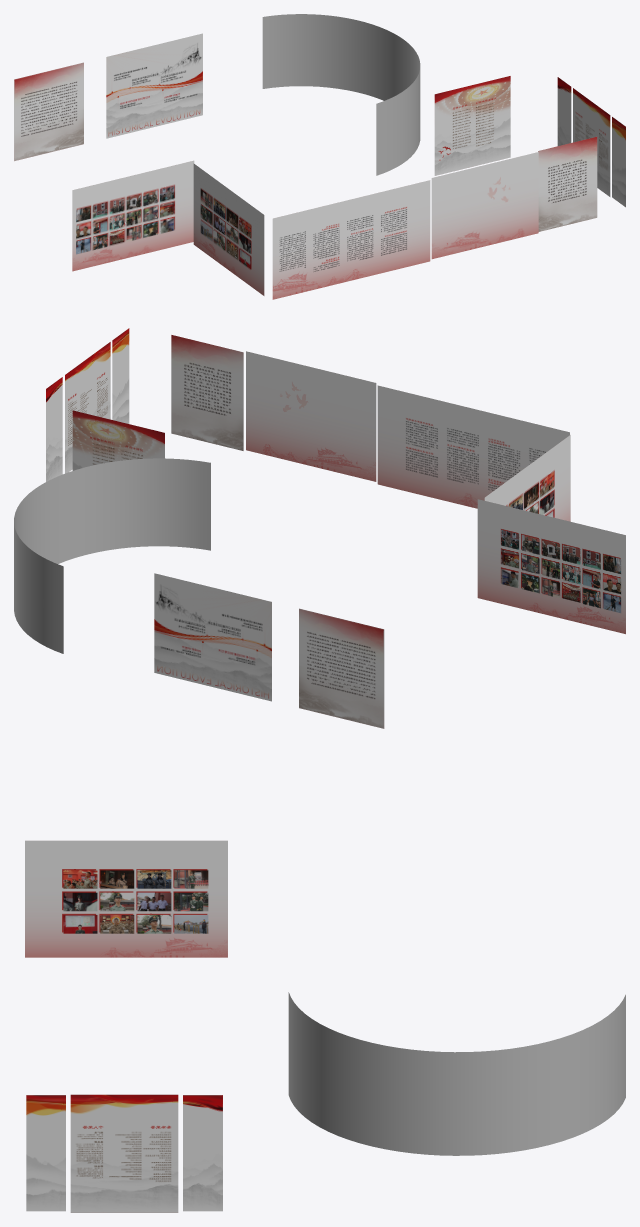
3 views of the same model, one above another, from view 1: azimuth 30°, elevation 25°; view 2: azimuth 150°, elevation 25°; view 3: azimuth 270°, elevation 25° (orthographic). The views are drawn at different scales.
Visible parts, largest first — view 1: 4中队_发展历程, 4中队_建设成就, 4中队_官兵风采, 4中队_重大任务, 4中队_历史沿革, 4中队_历任主官, 4中队_军营文化, 4中队_前言, 4中队_未来寄语, 4中队_历史荣誉中, 4中队_历史荣誉右, 4中队_历史荣誉左; view 2: 4中队_发展历程, 4中队_官兵风采, 4中队_建设成就, 4中队_重大任务, 4中队_历史沿革, 4中队_前言, 4中队_未来寄语, 4中队_军营文化, 4中队_历任主官, 4中队_历史荣誉中, 4中队_历史荣誉左, 4中队_历史荣誉右; view 3: 4中队_发展历程, 4中队_军营文化, 4中队_历史荣誉中, 4中队_历史荣誉右, 4中队_历史荣誉左.
Boxes of the visible parts, x1=… form: 4中队_发展历程: x1=262, y1=14, x2=420, y2=175; 4中队_建设成就: x1=272, y1=180, x2=430, y2=299; 4中队_官兵风采: x1=72, y1=160, x2=194, y2=271; 4中队_重大任务: x1=431, y1=152, x2=538, y2=259; 4中队_历史沿革: x1=106, y1=33, x2=202, y2=138; 4中队_历任主官: x1=434, y1=76, x2=510, y2=175; 4中队_军营文化: x1=193, y1=163, x2=264, y2=295; 4中队_前言: x1=14, y1=62, x2=83, y2=161; 4中队_未来寄语: x1=538, y1=136, x2=597, y2=231; 4中队_历史荣誉中: x1=573, y1=88, x2=610, y2=196; 4中队_历史荣誉右: x1=612, y1=117, x2=625, y2=207; 4中队_历史荣誉左: x1=557, y1=77, x2=571, y2=145; 4中队_发展历程: x1=14, y1=458, x2=210, y2=653; 4中队_官兵风采: x1=477, y1=499, x2=625, y2=634; 4中队_建设成就: x1=377, y1=385, x2=569, y2=508; 4中队_重大任务: x1=246, y1=351, x2=376, y2=481; 4中队_历史沿革: x1=154, y1=573, x2=271, y2=701; 4中队_前言: x1=299, y1=608, x2=384, y2=728; 4中队_未来寄语: x1=171, y1=335, x2=243, y2=450; 4中队_军营文化: x1=484, y1=435, x2=570, y2=521; 4中队_历任主官: x1=72, y1=410, x2=164, y2=470; 4中队_历史荣誉中: x1=65, y1=342, x2=110, y2=473; 4中队_历史荣誉左: x1=46, y1=377, x2=62, y2=481; 4中队_历史荣誉右: x1=112, y1=328, x2=129, y2=423; 4中队_发展历程: x1=288, y1=992, x2=625, y2=1155; 4中队_军营文化: x1=25, y1=840, x2=227, y2=957; 4中队_历史荣誉中: x1=70, y1=1094, x2=178, y2=1212; 4中队_历史荣誉右: x1=26, y1=1095, x2=65, y2=1211; 4中队_历史荣誉左: x1=183, y1=1095, x2=222, y2=1211.
Size of the model in its own units: 1029 by 170 by 789.
